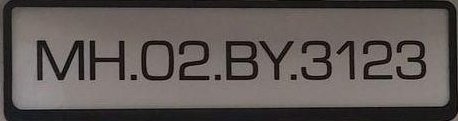character: (35, 38, 85, 82), (88, 38, 126, 81), (139, 39, 174, 80), (258, 38, 293, 79), (224, 39, 258, 80), (177, 39, 210, 81), (362, 39, 393, 81), (395, 39, 427, 79), (301, 39, 332, 80), (336, 39, 355, 81)
